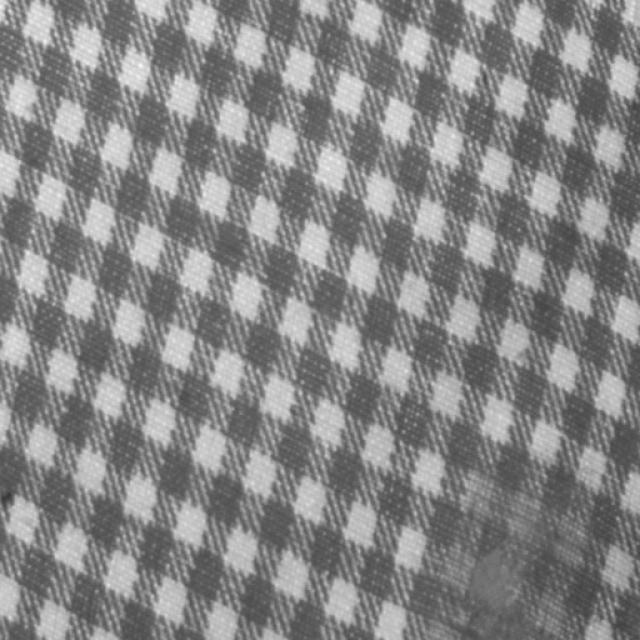Stain-Defect: (439, 472, 586, 639)
